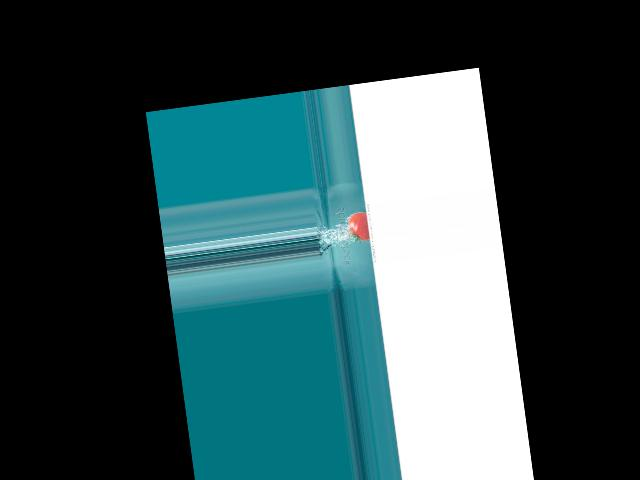tomato: (347, 211, 370, 243)
